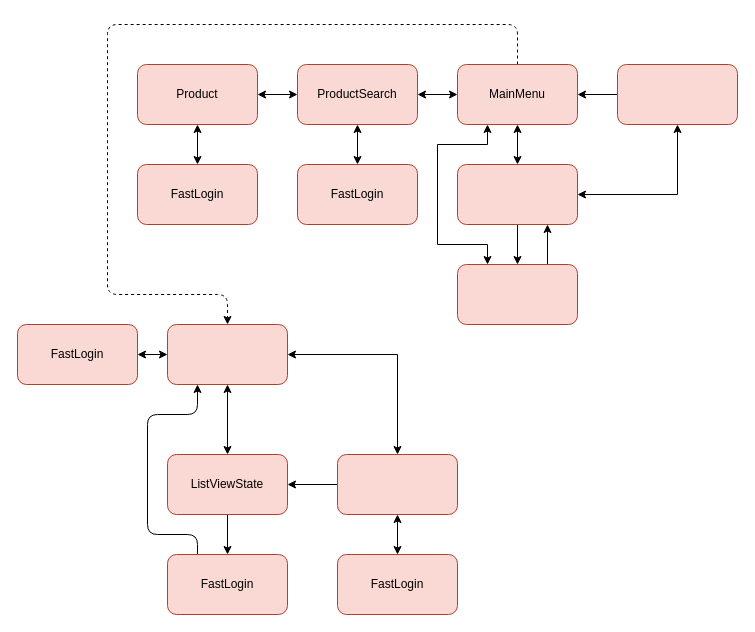
Some shapes in this 755 by 632 pixel diagram are drawn without their labels. Here are the shapes that lost their labels. From the top down, the box of each, then its label:
(616, 64, 738, 124): Registering
(456, 164, 578, 224): Login
(456, 264, 578, 324): UserDetails
(166, 324, 288, 384): ListBrowseViewState
(336, 454, 458, 514): ListCreateViewState
